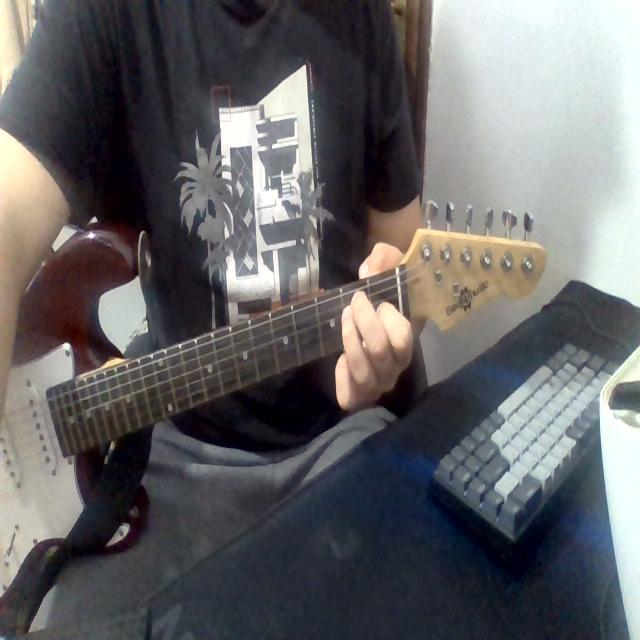E: (329, 270, 427, 395)
